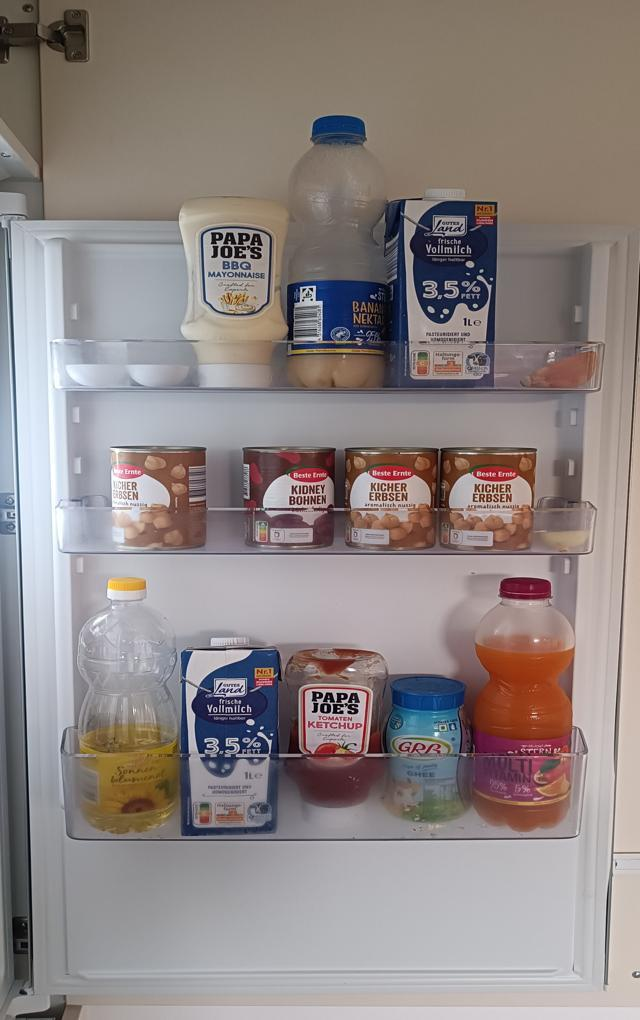bananajuice: (289, 116, 394, 392)
chickpeas: (111, 448, 211, 551), (441, 446, 535, 553), (345, 446, 440, 548)
ghee: (384, 677, 476, 821)
kidneybeans: (243, 445, 339, 548)
mayoniasie: (179, 197, 291, 391)
milk: (389, 190, 501, 387), (182, 637, 283, 836)
oil: (77, 576, 180, 838)
orangejuice: (475, 578, 576, 834)
tomatoketchup: (282, 649, 387, 826)
